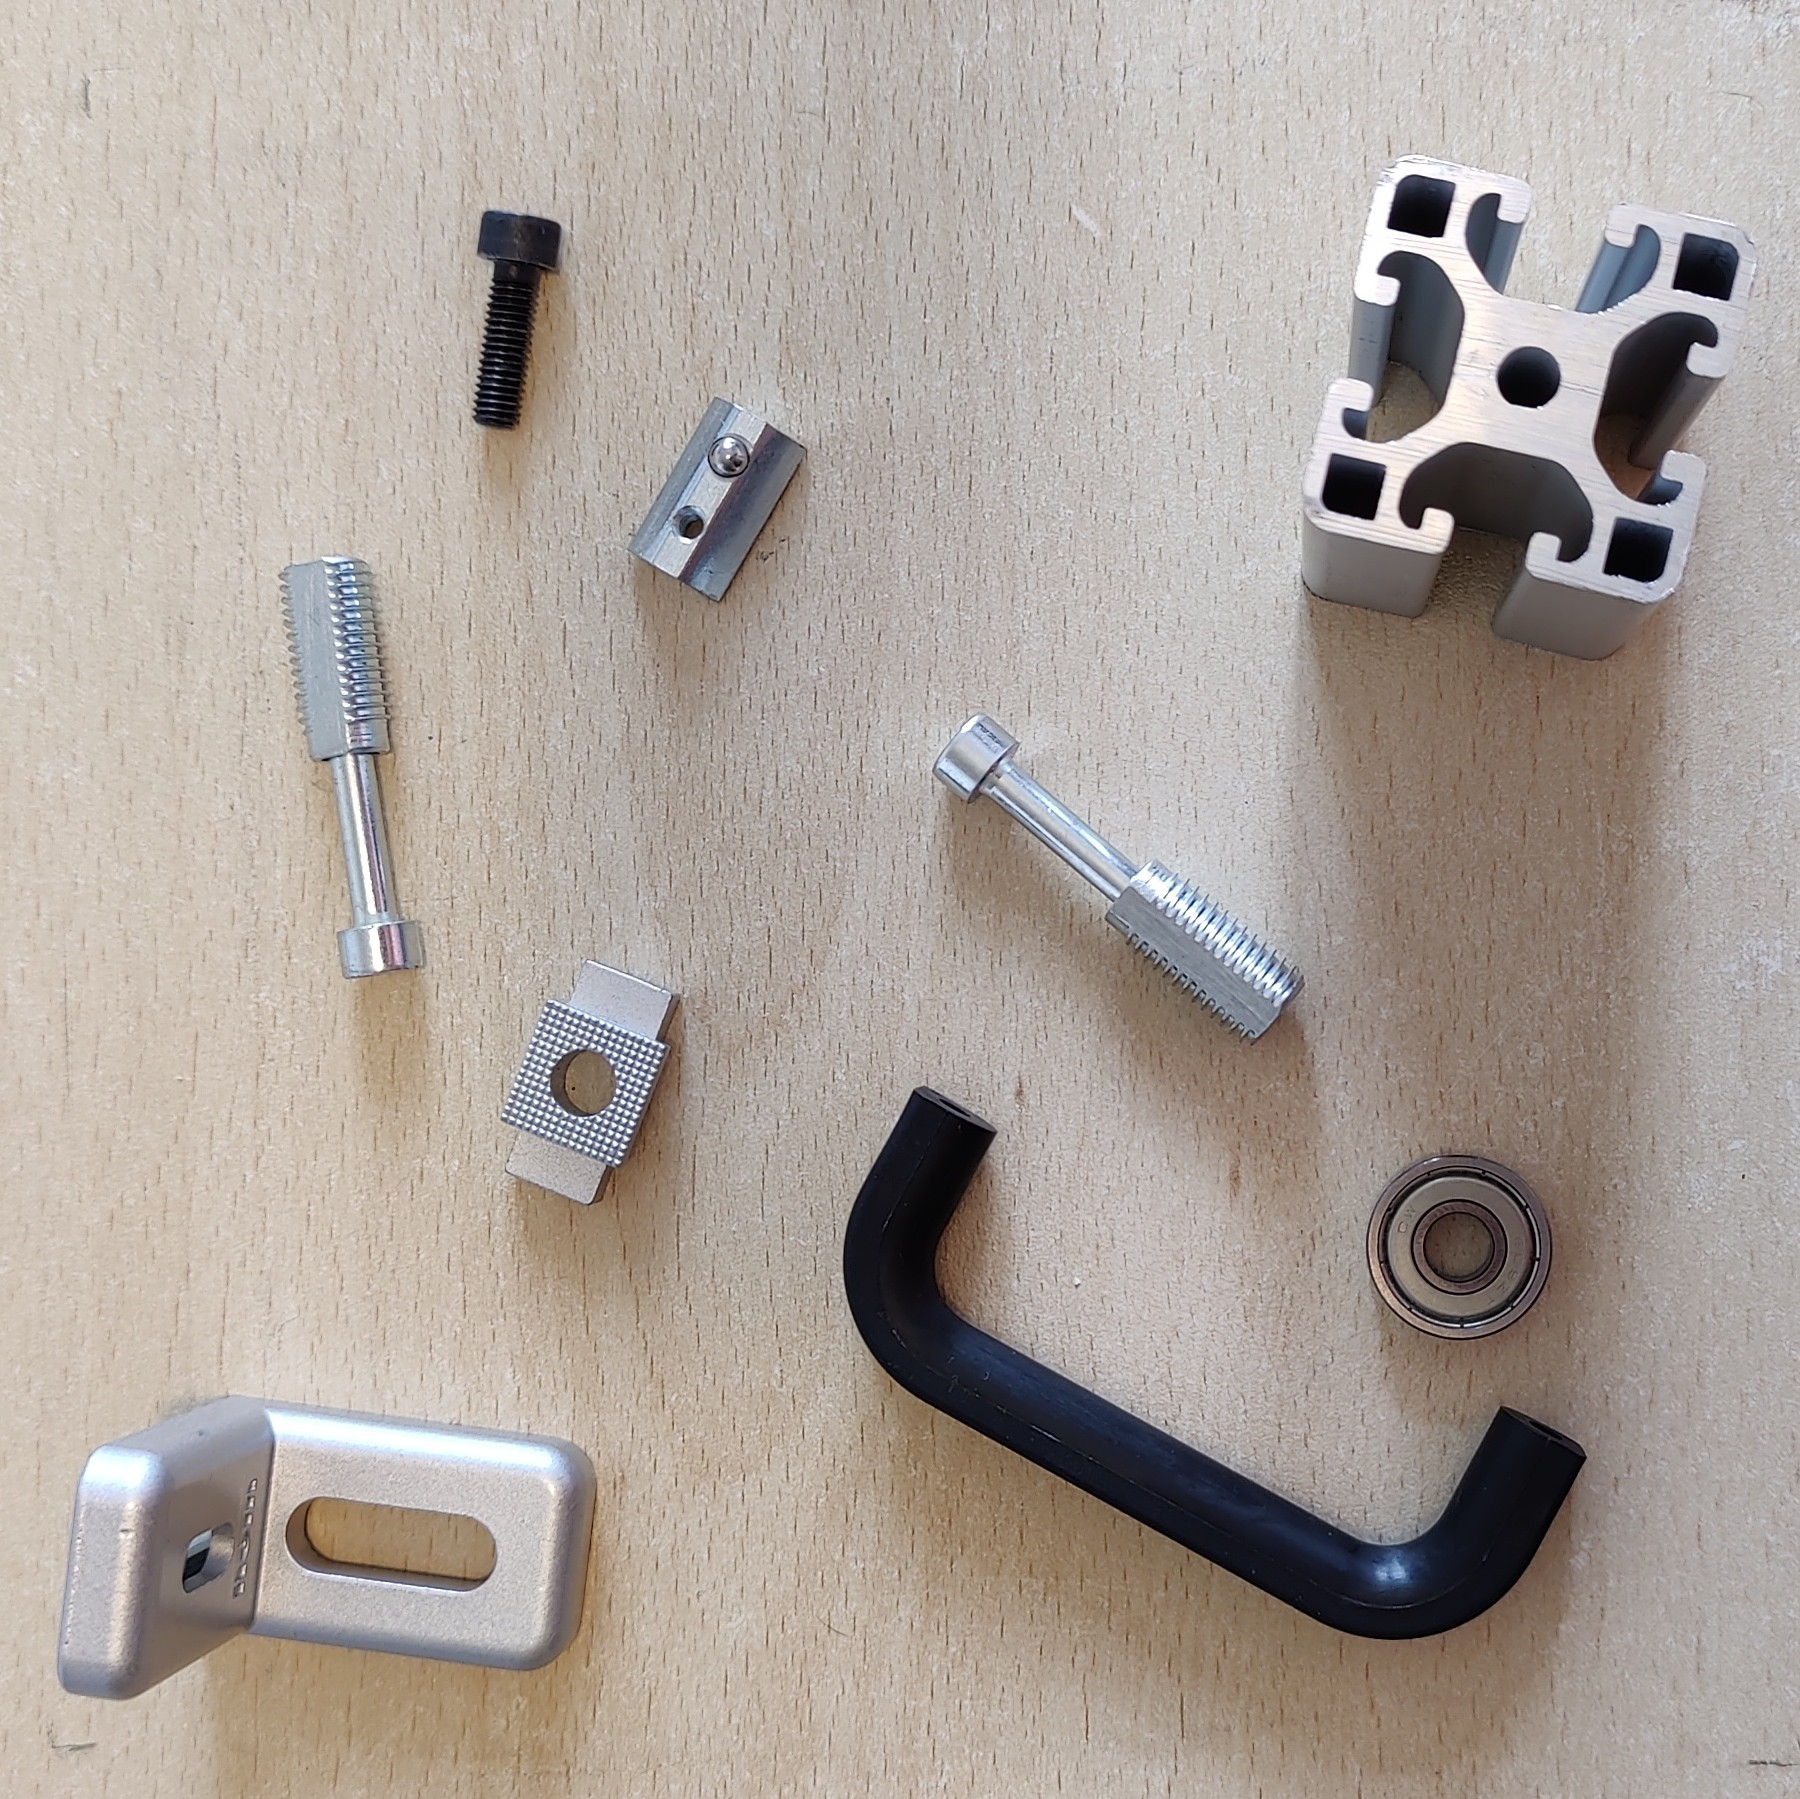Aluminium Extension: (1296, 152, 1759, 664)
Ball Bearing: (1364, 1150, 1555, 1344)
Multiwinkel: (54, 1394, 599, 1703)
Pull Handle: (838, 1079, 1589, 1641)
Shoulder Socket Head Cap Screw: (929, 710, 1308, 1049), (273, 554, 428, 984)
Socket Head Cap Screw: (469, 208, 567, 433)
T Nut Square: (497, 954, 685, 1208)
T Spring Nut: (626, 394, 812, 606)
